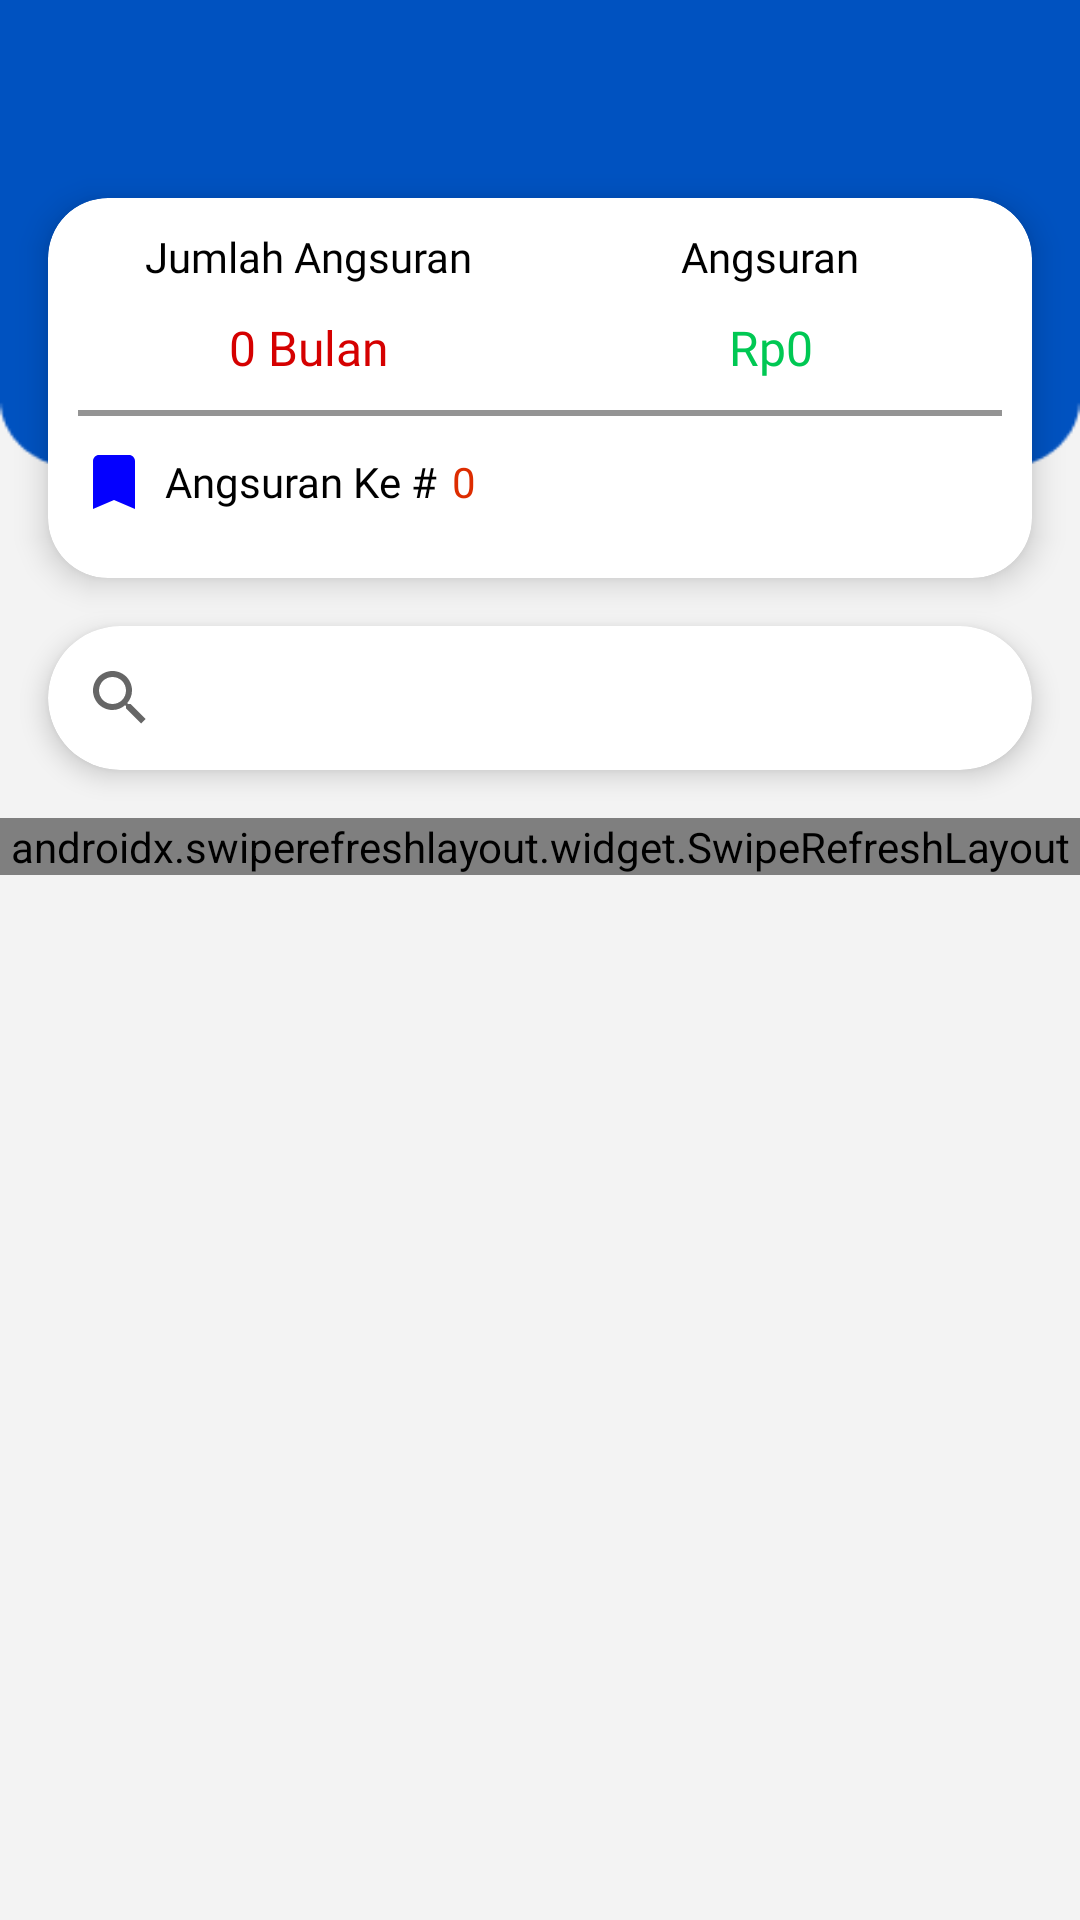

Screen size 1080×1920. Icon name, then its box in pixels as [x1=x1, y1=y1, x2=x2, y2=y2]:
bookmark: [x1=93, y1=455, x2=135, y2=509]
